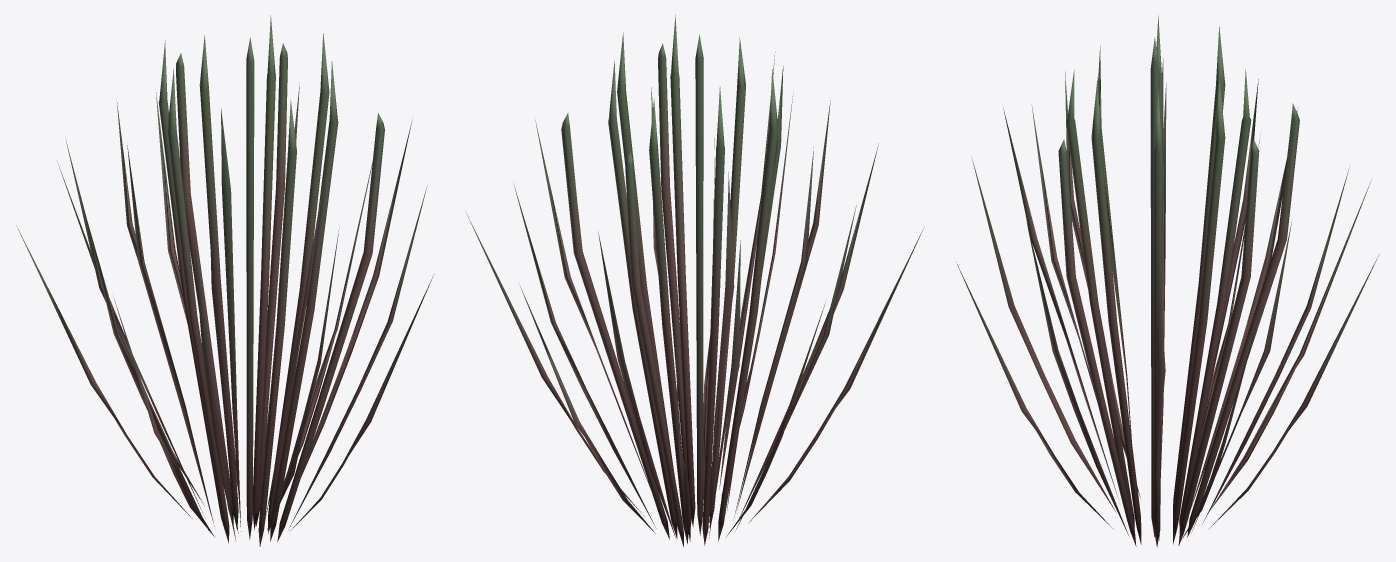
The model's file is trees-grasses-ornamental-grass_v2.fbx.
3 views of the same model, side by side, from view 1: azimuth 30°, elevation 25°; view 2: azimuth 150°, elevation 25°; view 3: azimuth 270°, elevation 25° (orthographic).
Visible parts, largest first — view 1: Ornamental Grass_v2; view 2: Ornamental Grass_v2; view 3: Ornamental Grass_v2.
Boxes of the visible parts, left/top/right/bottom form: Ornamental Grass_v2: left=16, top=15, right=433, bottom=546; Ornamental Grass_v2: left=465, top=14, right=924, bottom=547; Ornamental Grass_v2: left=956, top=15, right=1379, bottom=547.
Size of the model in its own units: 0.4544 by 0.6 by 0.4625.
